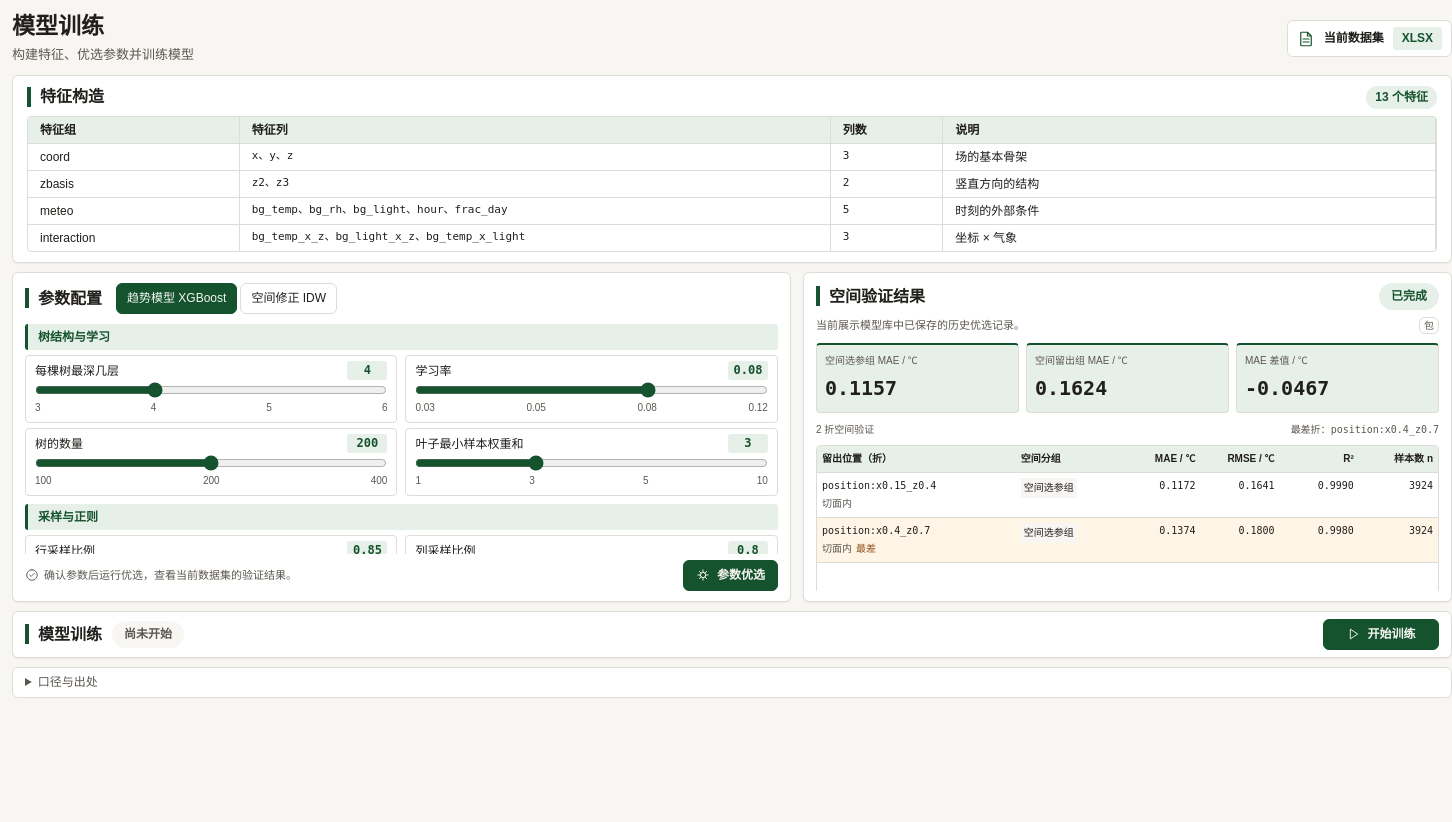
it: 页② 模型训练 › 任务跑完之后重取一次标定包（T18 的后半）
Click the button "参数优选". click: (730, 575)
box: [683,560,778,591]
Wait 1000 ms
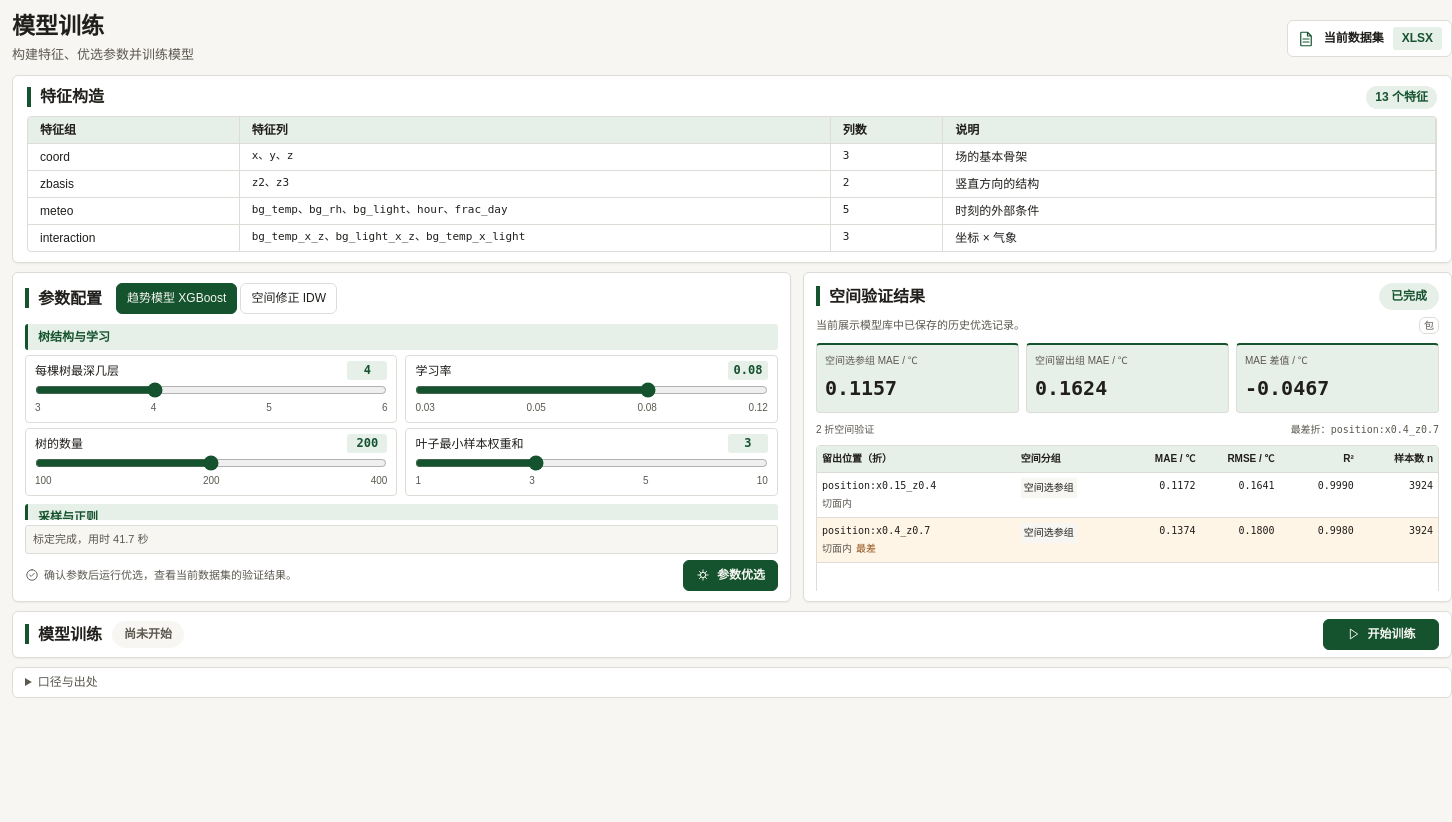
Check: the message with class "optimization-progress" shows "标定完成", box [33,533,148,545]
